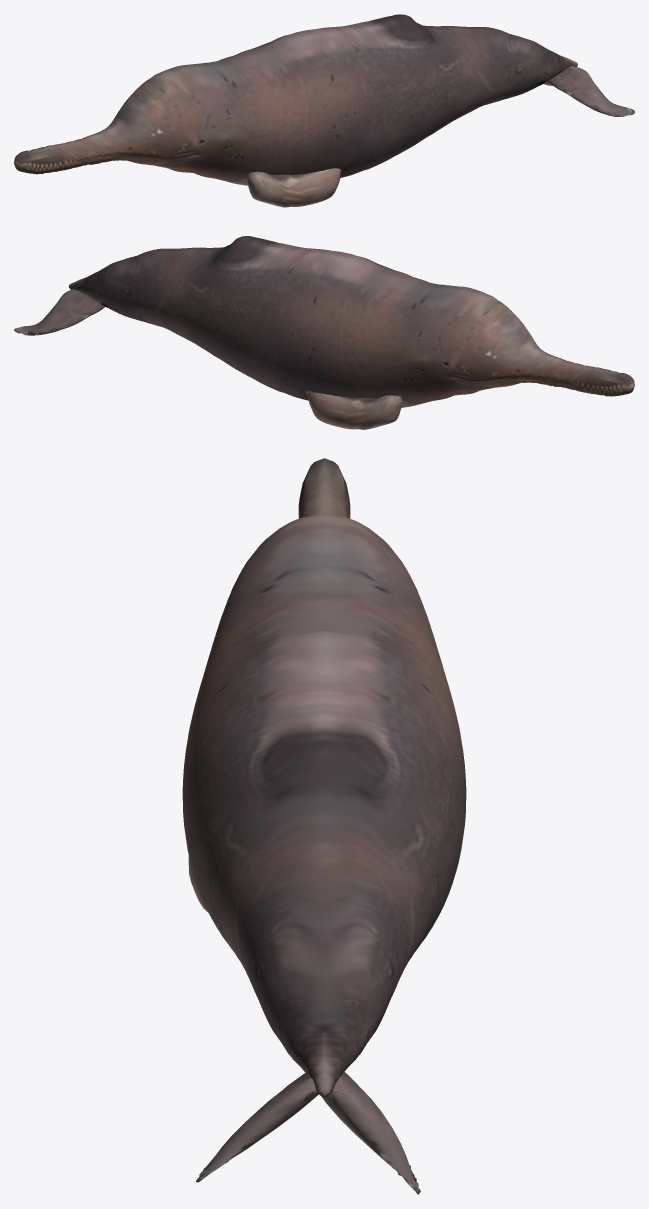
File: indus-river-dolphin.glb
3 views of the same model, one above another, from view 1: azimuth 30°, elevation 25°; view 2: azimuth 150°, elevation 25°; view 3: azimuth 270°, elevation 25° (orthographic). The views are drawn at different scales.
Visible parts, largest first — view 1: mm_frame (27); view 2: mm_frame (27); view 3: mm_frame (27).
Part boxes in pixels (bbox=[...]): mm_frame (27): bbox=[14, 14, 634, 207]; mm_frame (27): bbox=[14, 236, 634, 429]; mm_frame (27): bbox=[182, 458, 466, 1194].
Bounding box in the file's own units: 9.24 × 2.13 × 1.91.
Materials: 1 (1 with a texture image).
